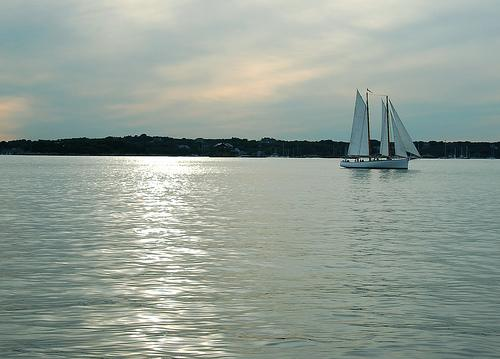Ship: (342, 85, 422, 172)
